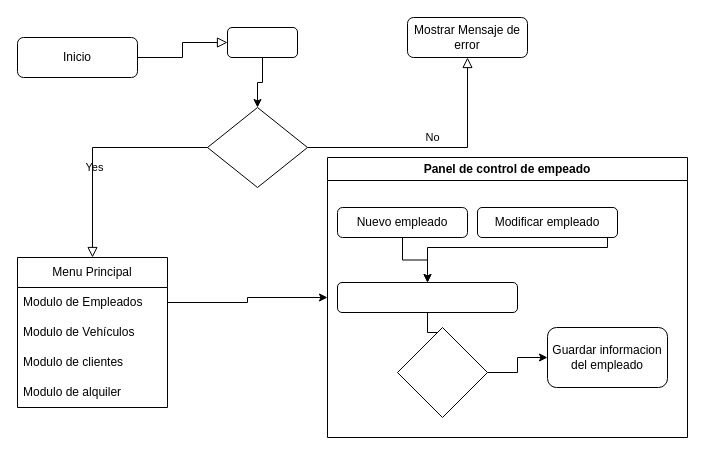
Image size: 705x455. Some labels were removed from this diagram. The centre of each missing label's shape, as x and y in pixels:
Formulario de empleado: [427,297]
Login: [262,42]
¿Credenciales Correctas?: [257,147]
¿Todo salio correctanente?: [442,372]
